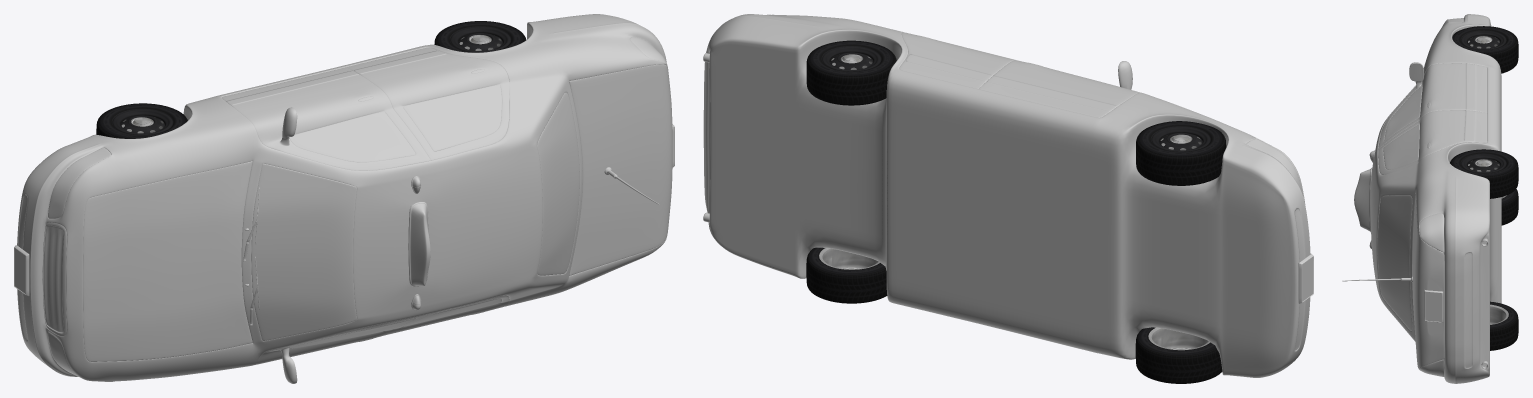
File: 13914_Taxi_v2_L1.obj
The picture shows the model from 3 angles, left to right: view 1: azimuth 30°, elevation 25°; view 2: azimuth 150°, elevation 25°; view 3: azimuth 270°, elevation 25°; orthographic projection. The views are drawn at different scales.
Visible parts, largest first — view 1: 13914_Taxi_car, 13914_Taxi_wheel_04, 13914_Taxi_wheel_03, 13914_Taxi_parts; view 2: 13914_Taxi_car, 13914_Taxi_wheel_04, 13914_Taxi_wheel_03, 13914_Taxi_wheel_01, 13914_Taxi_wheel_02, 13914_Taxi_parts; view 3: 13914_Taxi_car, 13914_Taxi_wheel_03, 13914_Taxi_wheel_04, 13914_Taxi_wheel_02, 13914_Taxi_parts, 13914_Taxi_wheel_01.
Part boxes in pixels (bbox=[...]): 13914_Taxi_car: bbox=[17, 14, 672, 383]; 13914_Taxi_wheel_04: bbox=[96, 103, 187, 138]; 13914_Taxi_wheel_03: bbox=[434, 21, 526, 52]; 13914_Taxi_parts: bbox=[14, 124, 674, 326]; 13914_Taxi_car: bbox=[703, 14, 1310, 377]; 13914_Taxi_wheel_04: bbox=[1136, 121, 1226, 185]; 13914_Taxi_wheel_03: bbox=[806, 40, 896, 105]; 13914_Taxi_wheel_01: bbox=[1135, 327, 1222, 383]; 13914_Taxi_wheel_02: bbox=[806, 247, 887, 303]; 13914_Taxi_parts: bbox=[703, 53, 1313, 303]; 13914_Taxi_car: bbox=[1354, 14, 1501, 383]; 13914_Taxi_wheel_03: bbox=[1450, 149, 1518, 198]; 13914_Taxi_wheel_04: bbox=[1452, 26, 1518, 73]; 13914_Taxi_wheel_02: bbox=[1490, 301, 1518, 350]; 13914_Taxi_parts: bbox=[1342, 150, 1488, 368]; 13914_Taxi_wheel_01: bbox=[1501, 189, 1518, 225].
Size of the model in its own units: 536 by 223 by 174.
